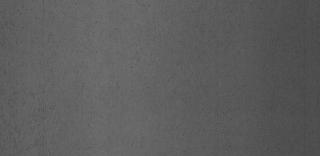silk spot: (16, 27, 90, 131)
